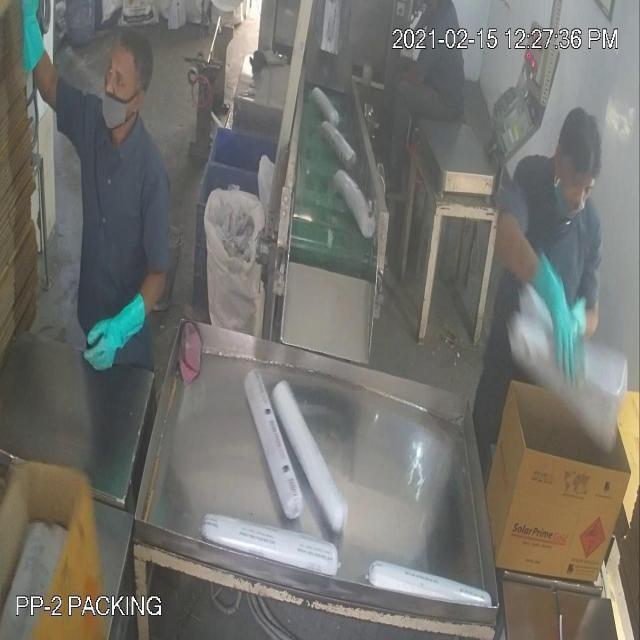Gloves: (39, 55, 556, 328)
